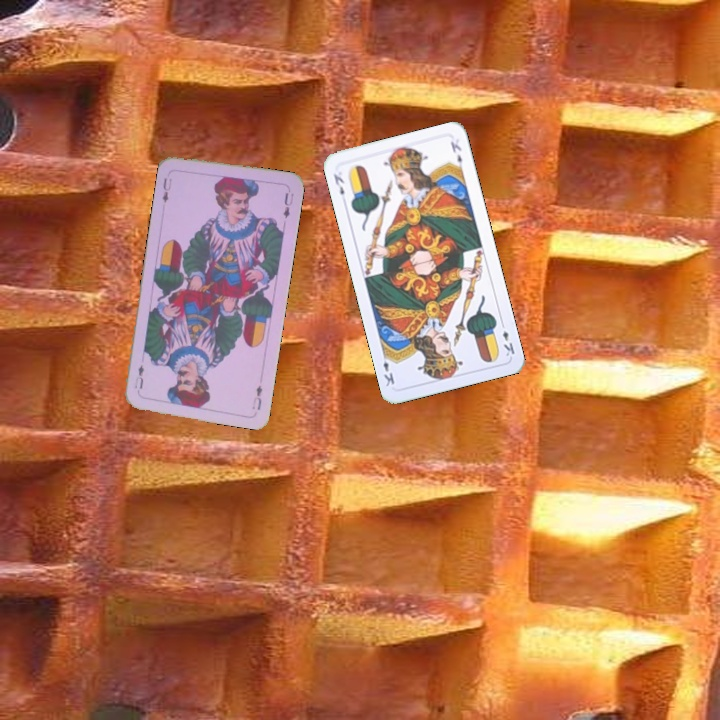EK: (497, 318, 517, 359), (329, 170, 347, 198)
EU: (248, 381, 265, 412), (158, 174, 174, 206)
